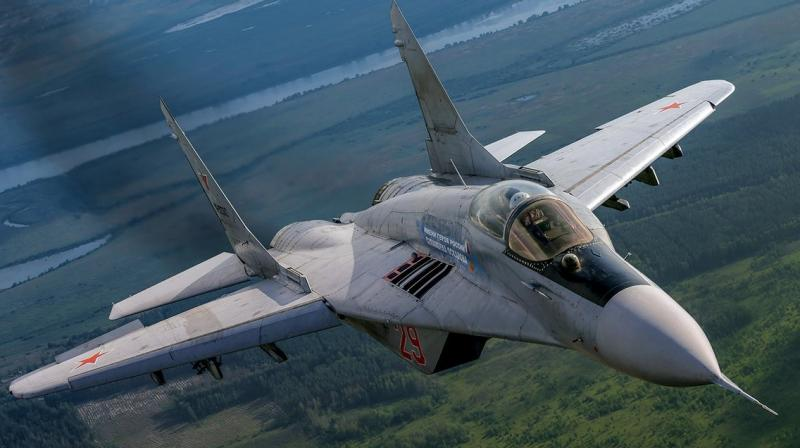Mig-29: (50, 30, 766, 418)
